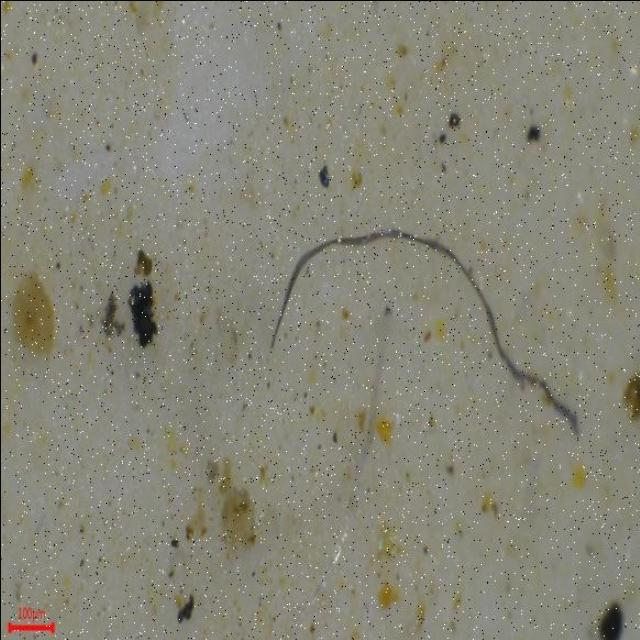Fibre: (264, 222, 582, 448)
